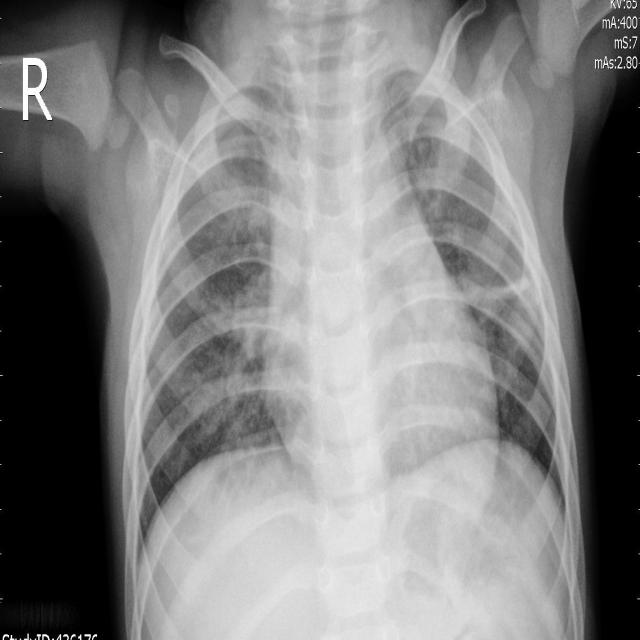low-pneumonia: (205, 262, 269, 436), (462, 255, 544, 369)
